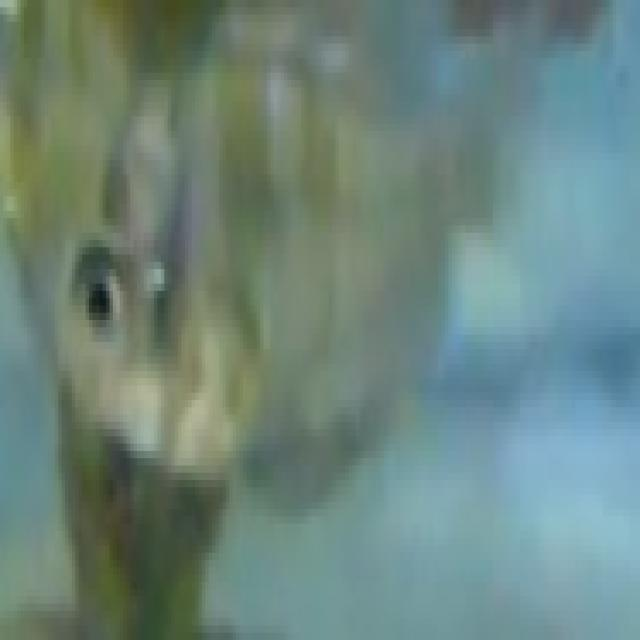Glass-Perchlet: (16, 22, 591, 539)
